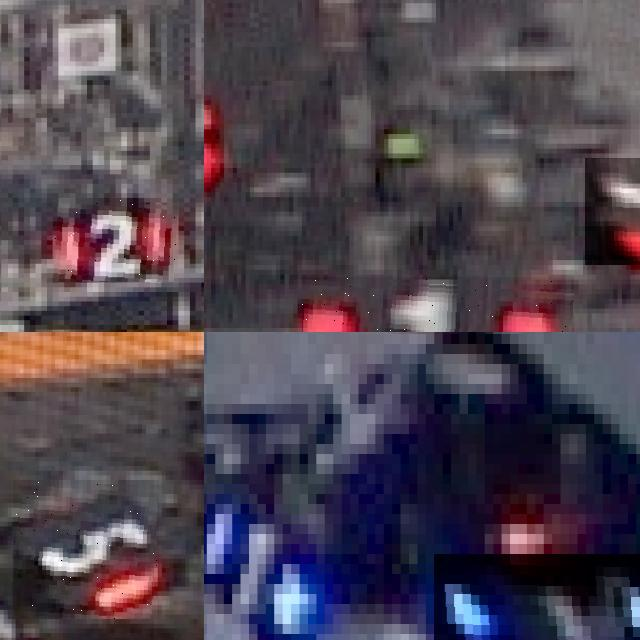B1: (434, 554, 640, 640), (204, 494, 316, 640)
R1: (301, 277, 574, 332), (585, 158, 640, 264)
R2: (53, 198, 178, 282)
R5: (14, 480, 160, 619)
